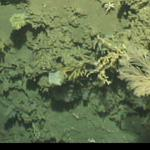alive: (5, 5, 141, 140)
